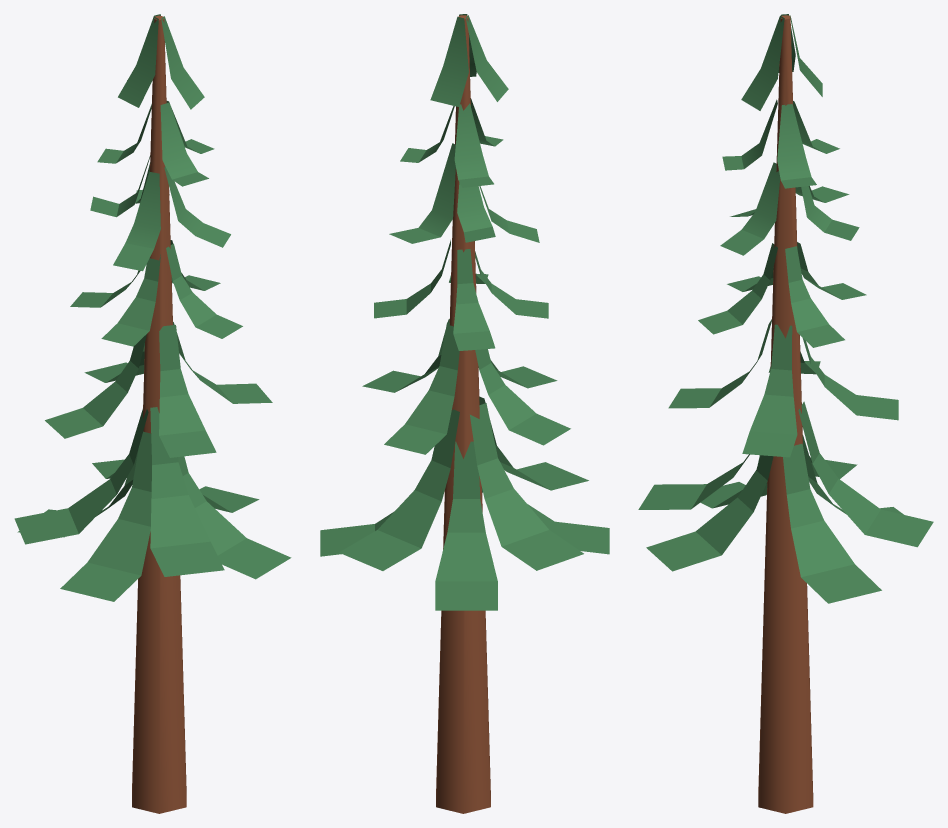
File: cozy_lake_tree_pine_003.glb
3 renders of one model, left to right at view 1: azimuth 30°, elevation 25°; view 2: azimuth 150°, elevation 25°; view 3: azimuth 270°, elevation 25°, orthographic.
Parts seen in each view (by area): view 1: Tree_Pine_003; view 2: Tree_Pine_003; view 3: Tree_Pine_003.
Boxes of the visible parts, box(x1,y1,x2,y2) form: Tree_Pine_003: box(14, 14, 291, 813); Tree_Pine_003: box(320, 14, 609, 813); Tree_Pine_003: box(638, 14, 933, 813).
Size of the model in its own units: 40.86 by 123 by 41.97.
